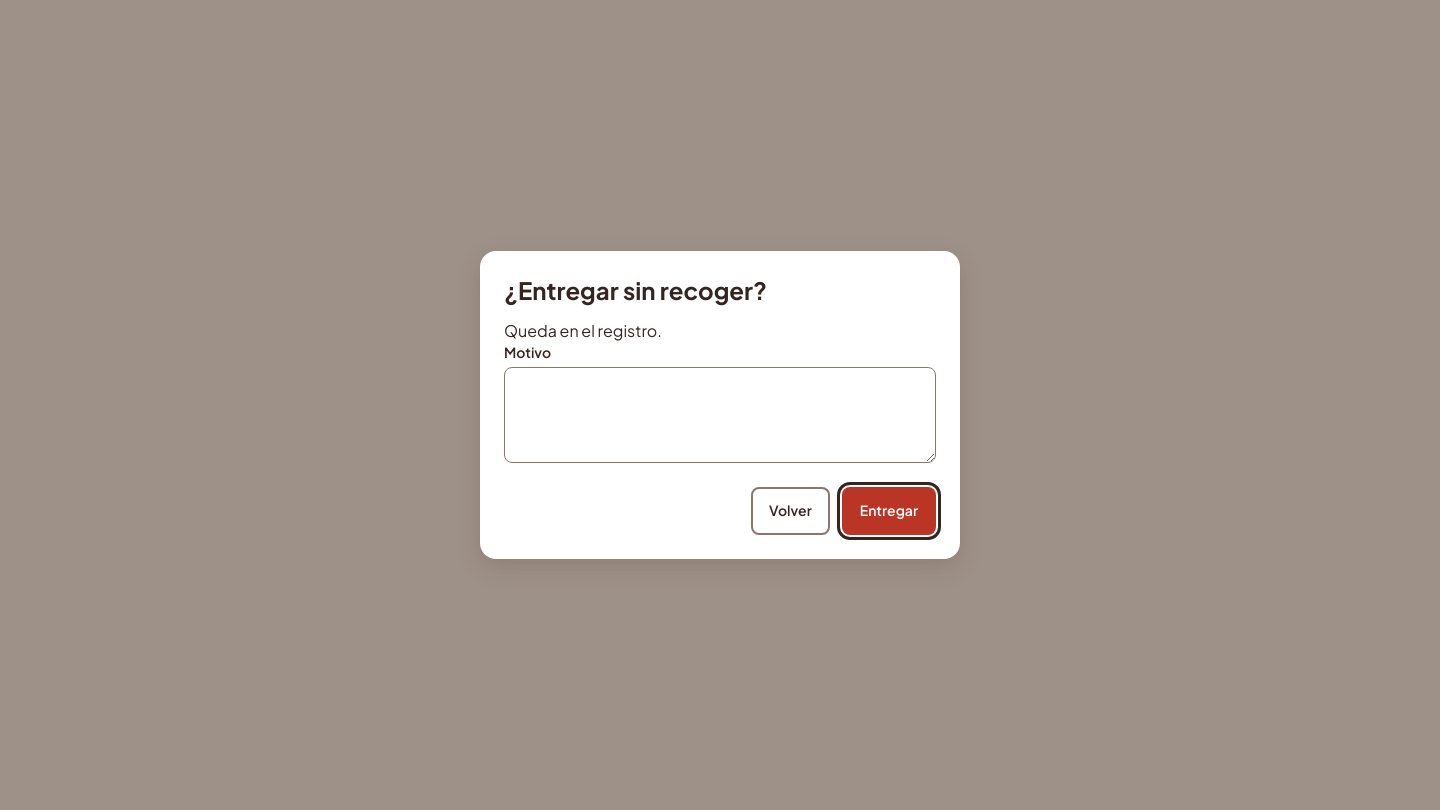
ReasonDialog › no confirma sin un motivo válido y entrega el motivo limpio
Later steps or results of the test are not shown.
What coordinates should you click on to do the following:
click the button "Entregar"
I would click on:
 (889, 511)
Its box is [842, 487, 936, 535].
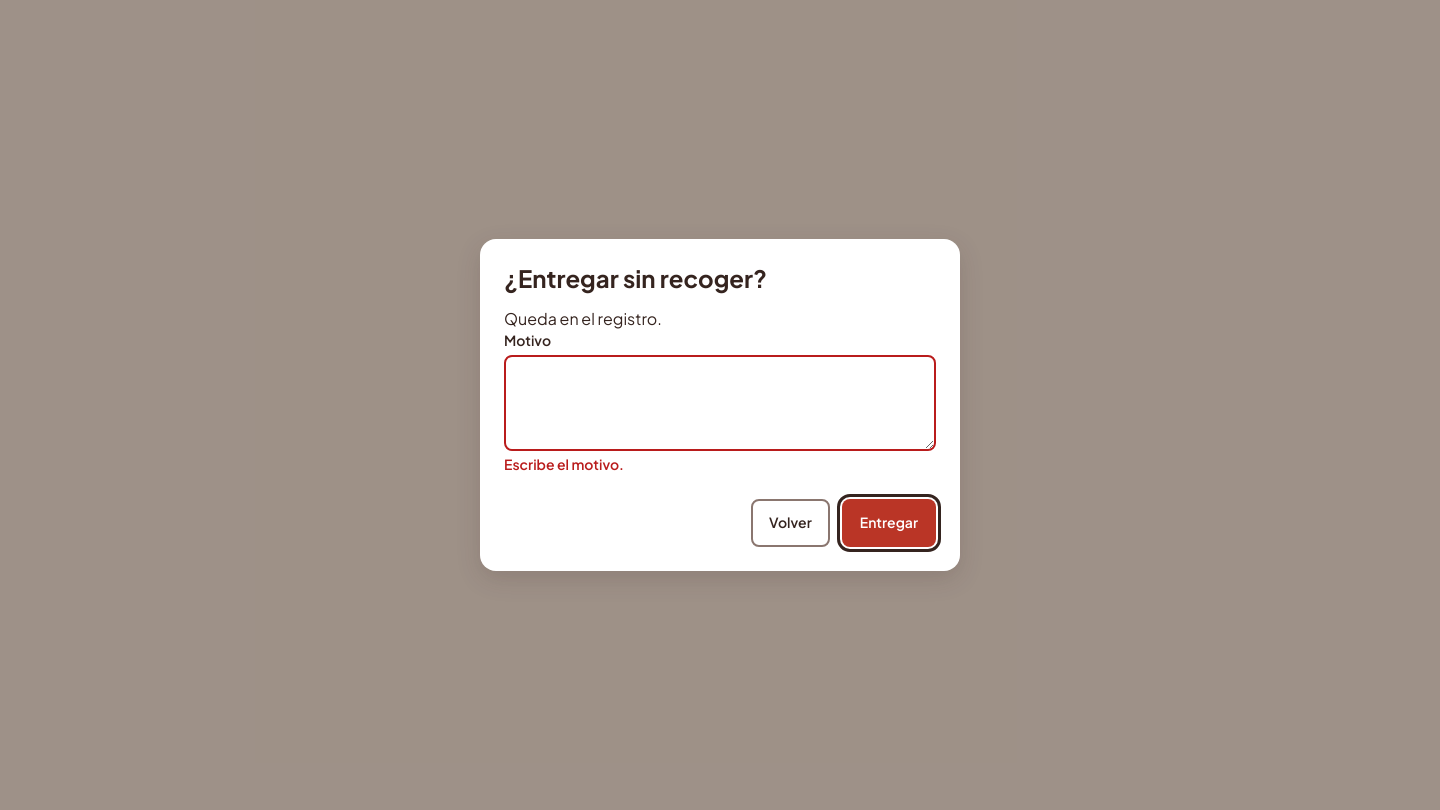
Result: the text "Escribe el motivo." is shown at [504, 456, 624, 473]
